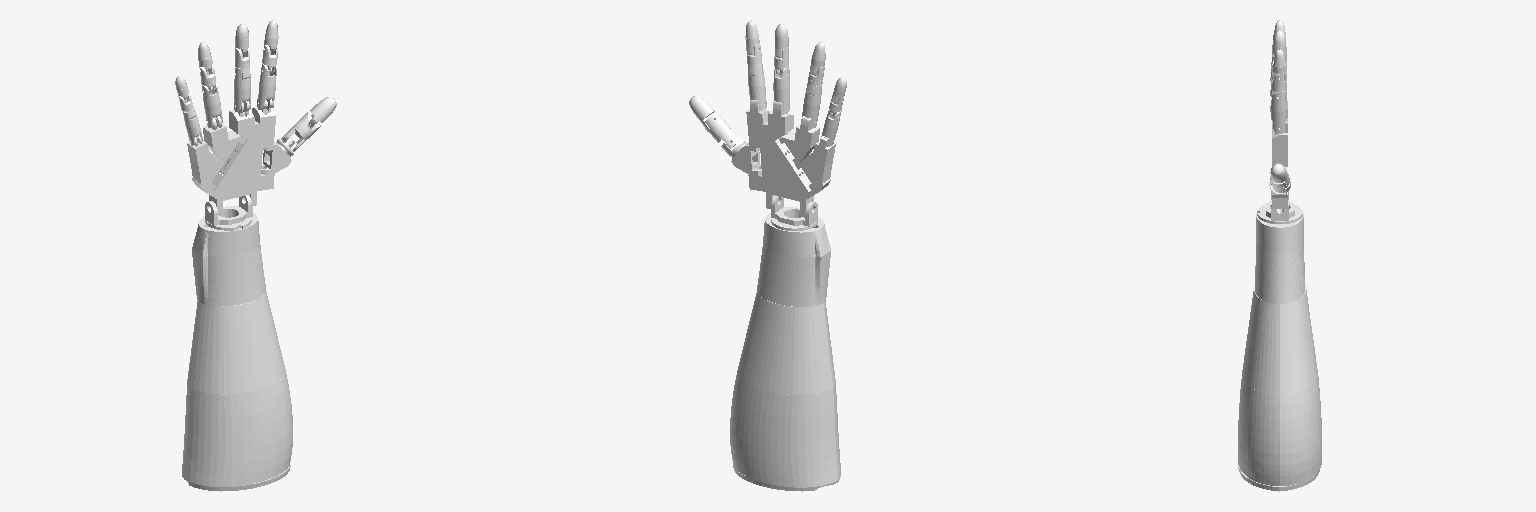
--- What the picture shows (computed from the rendered views, not written in the file) ---
3 views of the same robot in one strip: view 1: azimuth 30°, elevation 25°; view 2: azimuth 150°, elevation 25°; view 3: azimuth 270°, elevation 25° (orthographic).
Model hand_urdf with 21 links and 20 joints (19 revolute, 1 fixed), rooted at world, posed every joint at zero.
Links seen in each view (by area): view 1: base_link, link_2, link_1, link_4, link_5, link_3, link_7, link_13, link_8, link_6; view 2: base_link, link_2, link_1, link_4, link_5, link_3, link_8, link_6, link_7, link_13; view 3: base_link, link_2, link_1, link_7.
Boxes of the visible links, <box> form: base_link: <box>182,213,292,491</box>; link_2: <box>192,99,275,214</box>; link_1: <box>205,195,252,230</box>; link_4: <box>187,135,226,190</box>; link_5: <box>203,116,245,163</box>; link_3: <box>261,137,296,174</box>; link_7: <box>258,63,276,109</box>; link_13: <box>202,82,222,127</box>; link_8: <box>281,112,320,151</box>; link_6: <box>234,67,250,111</box>; base_link: <box>730,213,840,491</box>; link_2: <box>746,100,831,217</box>; link_1: <box>771,195,817,230</box>; link_4: <box>795,136,835,190</box>; link_5: <box>779,116,820,164</box>; link_3: <box>721,137,761,175</box>; link_8: <box>705,114,736,148</box>; link_6: <box>773,66,789,112</box>; link_7: <box>748,64,766,110</box>; link_13: <box>801,83,821,128</box>; base_link: <box>1238,204,1321,491</box>; link_2: <box>1272,105,1287,215</box>; link_1: <box>1257,190,1302,223</box>; link_7: <box>1270,91,1286,133</box>.
Bounding box of the posed robot: 0.1832 × 0.0865 × 0.4951 m (x, y, z).
20 mesh visuals loaded from 20 distinct referenced files (20 binary STL).

URDF robot description (hand_urdf):
<?xml version="1.0" encoding="utf-8" ?>
<!-- This URDF was automatically created by SolidWorks to URDF Exporter! Originally created by Stephen Brawner ([email redacted]) 
     Commit Version: 1.6.0-4-g7f85cfe  Build Version: 1.6.7995.38578
     For more information, please see http://wiki.ros.org/sw_urdf_exporter -->
<robot name="hand_urdf">
    <link name="world" />
    <joint name="base_joint" type="fixed">
        <parent link="world" />
        <child link="base_link" />
        <origin rpy="0 0 0" xyz="0.0 0.0 0.0" />
    </joint>
    <link name="base_link">
        <inertial>
            <origin xyz="-9.57E-05 0.00036971 0.081542" rpy="0 0 0" />
            <mass value="0.42135" />
            <inertia ixx="0.00056075" ixy="-1.247E-06" ixz="2.5154E-06" iyy="0.00080543" iyz="-7.8447E-08" izz="0.00081249" />
        </inertial>
        <visual>
            <origin xyz="0 0 0" rpy="0 0 0" />
            <geometry>
                <mesh filename="package://hand_urdf/meshes/base_link.STL" />
            </geometry>
            <material name="">
                <color rgba="1 1 1 1" />
            </material>
        </visual>
        <collision>
            <origin xyz="0 0 0" rpy="0 0 0" />
            <geometry>
                <mesh filename="package://hand_urdf/meshes/base_link.STL" />
            </geometry>
        </collision>
    </link>
    <link name="link_1">
        <inertial>
            <origin xyz="-0.00018823 -7.0778E-05 0.006205" rpy="0 0 0" />
            <mass value="0.01051" />
            <inertia ixx="1.3884E-06" ixy="-9.6777E-09" ixz="1.1461E-08" iyy="2.7578E-06" iyz="-7.3181E-09" izz="3.4267E-06" />
        </inertial>
        <visual>
            <origin xyz="0 0 0" rpy="0 0 0" />
            <geometry>
                <mesh filename="package://hand_urdf/meshes/link_1.STL" />
            </geometry>
            <material name="">
                <color rgba="1 1 1 1" />
            </material>
        </visual>
        <collision>
            <origin xyz="0 0 0" rpy="0 0 0" />
            <geometry>
                <mesh filename="package://hand_urdf/meshes/link_1.STL" />
            </geometry>
        </collision>
    </link>
    <joint name="joint_1" type="revolute">
        <origin xyz="-0.0092782 0.0004297 0.2804" rpy="0 0 3.1416" />
        <parent link="base_link" />
        <child link="link_1" />
        <axis xyz="0 0 1" />
        <limit lower="0" upper="3.14" effort="1.47" velocity="10" />
    </joint>
    <link name="link_2">
        <inertial>
            <origin xyz="0.047956 -0.00011481 0.012072" rpy="0 0 0" />
            <mass value="0.065188" />
            <inertia ixx="2.4387E-05" ixy="3.1859E-07" ixz="-1.5646E-05" iyy="7.9044E-05" iyz="6.6163E-08" izz="5.796E-05" />
        </inertial>
        <visual>
            <origin xyz="0 0 0" rpy="0 0 0" />
            <geometry>
                <mesh filename="package://hand_urdf/meshes/link_2.STL" />
            </geometry>
            <material name="">
                <color rgba="1 1 1 1" />
            </material>
        </visual>
        <collision>
            <origin xyz="0 0 0" rpy="0 0 0" />
            <geometry>
                <mesh filename="package://hand_urdf/meshes/link_2.STL" />
            </geometry>
        </collision>
    </link>
    <joint name="joint_2" type="revolute">
        <origin xyz="-0.0057655 -2.3696E-05 0.018503" rpy="0 -1.5708 0" />
        <parent link="link_1" />
        <child link="link_2" />
        <axis xyz="0 0 1" />
        <limit lower="-3.14" upper="3.14" effort="0.588" velocity="10" />
    </joint>
    <link name="link_3">
        <inertial>
            <origin xyz="-0.015159 -0.00030686 0.012579" rpy="0 0 0" />
            <mass value="0.010696" />
            <inertia ixx="1.0275E-06" ixy="-5.1813E-09" ixz="-9.0665E-08" iyy="1.1917E-06" iyz="7.2066E-09" izz="7.7781E-07" />
        </inertial>
        <visual>
            <origin xyz="0 0 0" rpy="0 0 0" />
            <geometry>
                <mesh filename="package://hand_urdf/meshes/link_3.STL" />
            </geometry>
            <material name="">
                <color rgba="1 1 1 1" />
            </material>
        </visual>
        <collision>
            <origin xyz="0 0 0" rpy="0 0 0" />
            <geometry>
                <mesh filename="package://hand_urdf/meshes/link_3.STL" />
            </geometry>
        </collision>
    </link>
    <joint name="joint_3" type="revolute">
        <origin xyz="0.031337 0 0.034751" rpy="0 1.4877 0" />
        <parent link="link_2" />
        <child link="link_3" />
        <axis xyz="0 0 -1" />
        <limit lower="0" upper="1.57" effort="0.588" velocity="10" />
    </joint>
    <link name="link_8">
        <inertial>
            <origin xyz="-0.015023 0.0090258 0.005" rpy="0 0 0" />
            <mass value="0.0058999" />
            <inertia ixx="3.5157E-07" ixy="1.7362E-08" ixz="-4.4956E-14" iyy="3.7039E-07" iyz="-5.2708E-13" izz="2.9572E-07" />
        </inertial>
        <visual>
            <origin xyz="0 0 0" rpy="0 0 0" />
            <geometry>
                <mesh filename="package://hand_urdf/meshes/link_8.STL" />
            </geometry>
            <material name="">
                <color rgba="1 1 1 1" />
            </material>
        </visual>
        <collision>
            <origin xyz="0 0 0" rpy="0 0 0" />
            <geometry>
                <mesh filename="package://hand_urdf/meshes/link_8.STL" />
            </geometry>
        </collision>
    </link>
    <joint name="joint_8" type="revolute">
        <origin xyz="-0.034598 -0.0015598 0.018449" rpy="0.63363 0.56445 0.32635" />
        <parent link="link_3" />
        <child link="link_8" />
        <axis xyz="0 0 -1" />
        <limit lower="0" upper="1.57" effort="0.588" velocity="10" />
    </joint>
    <link name="link_9">
        <inertial>
            <origin xyz="-0.012918 -0.0050672 -0.0032528" rpy="0 0 0" />
            <mass value="0.0043152" />
            <inertia ixx="1.9054E-07" ixy="-1.5389E-08" ixz="4.1698E-11" iyy="1.8634E-07" iyz="-5.2172E-11" izz="2.1466E-07" />
        </inertial>
        <visual>
            <origin xyz="0 0 0" rpy="0 0 0" />
            <geometry>
                <mesh filename="package://hand_urdf/meshes/link_9.STL" />
            </geometry>
            <material name="">
                <color rgba="1 1 1 1" />
            </material>
        </visual>
        <collision>
            <origin xyz="0 0 0" rpy="0 0 0" />
            <geometry>
                <mesh filename="package://hand_urdf/meshes/link_9.STL" />
            </geometry>
        </collision>
    </link>
    <joint name="joint_9" type="revolute">
        <origin xyz="-0.025274 0.012384 0.00175" rpy="-3.1416 0 0" />
        <parent link="link_8" />
        <child link="link_9" />
        <axis xyz="0 0 -1" />
        <limit lower="-1.57" upper="0" effort="0.588" velocity="10" />
    </joint>
    <link name="link_4">
        <inertial>
            <origin xyz="0.019365 0.0001012 -0.014335" rpy="0 0 0" />
            <mass value="0.017142" />
            <inertia ixx="1.9362E-06" ixy="-3.2751E-08" ixz="1.0482E-06" iyy="3.9678E-06" iyz="2.765E-08" izz="2.8681E-06" />
        </inertial>
        <visual>
            <origin xyz="0 0 0" rpy="0 0 0" />
            <geometry>
                <mesh filename="package://hand_urdf/meshes/link_4.STL" />
            </geometry>
            <material name="">
                <color rgba="1 1 1 1" />
            </material>
        </visual>
        <collision>
            <origin xyz="0 0 0" rpy="0 0 0" />
            <geometry>
                <mesh filename="package://hand_urdf/meshes/link_4.STL" />
            </geometry>
        </collision>
    </link>
    <joint name="joint_4" type="revolute">
        <origin xyz="0.030226 0 -0.028427" rpy="3.1416 0.88174 0" />
        <parent link="link_2" />
        <child link="link_4" />
        <axis xyz="0 0 -1" />
        <limit lower="0" upper="1.57" effort="0.588" velocity="10" />
    </joint>
    <link name="link_10">
        <inertial>
            <origin xyz="0.015019 -0.00071389 -0.00362" rpy="0 0 0" />
            <mass value="0.0027236" />
            <inertia ixx="8.9581E-08" ixy="2.492E-09" ixz="-4.5585E-13" iyy="1.3857E-07" iyz="2.4337E-13" izz="1.2053E-07" />
        </inertial>
        <visual>
            <origin xyz="0 0 0" rpy="0 0 0" />
            <geometry>
                <mesh filename="package://hand_urdf/meshes/link_10.STL" />
            </geometry>
            <material name="">
                <color rgba="1 1 1 1" />
            </material>
        </visual>
        <collision>
            <origin xyz="0 0 0" rpy="0 0 0" />
            <geometry>
                <mesh filename="package://hand_urdf/meshes/link_10.STL" />
            </geometry>
        </collision>
    </link>
    <joint name="joint_10" type="revolute">
        <origin xyz="0.047022 -0.0003 -0.027283" rpy="0 0.62762 0" />
        <parent link="link_4" />
        <child link="link_10" />
        <axis xyz="0 0 -1" />
        <limit lower="0" upper="1.57" effort="0.588" velocity="10" />
    </joint>
    <link name="link_11">
        <inertial>
            <origin xyz="0.0090515 -0.00077922 -0.0035425" rpy="0 0 0" />
            <mass value="0.0017535" />
            <inertia ixx="3.7917E-08" ixy="-4.194E-09" ixz="6.6578E-13" iyy="4.5701E-08" iyz="-2.5517E-13" izz="4.4716E-08" />
        </inertial>
        <visual>
            <origin xyz="0 0 0" rpy="0 0 0" />
            <geometry>
                <mesh filename="package://hand_urdf/meshes/link_11.STL" />
            </geometry>
            <material name="">
                <color rgba="1 1 1 1" />
            </material>
        </visual>
        <collision>
            <origin xyz="0 0 0" rpy="0 0 0" />
            <geometry>
                <mesh filename="package://hand_urdf/meshes/link_11.STL" />
            </geometry>
        </collision>
    </link>
    <joint name="joint_11" type="revolute">
        <origin xyz="0.030505 0.0010814 -7.7625E-05" rpy="0 0 0" />
        <parent link="link_10" />
        <child link="link_11" />
        <axis xyz="0 0 -1" />
        <limit lower="0" upper="1.57" effort="0.588" velocity="10" />
    </joint>
    <link name="link_12">
        <inertial>
            <origin xyz="0.009388 2.9411E-05 -0.0027088" rpy="0 0 0" />
            <mass value="0.0014242" />
            <inertia ixx="2.5902E-08" ixy="2.0689E-09" ixz="2.0586E-11" iyy="3.2645E-08" iyz="5.227E-12" izz="3.4057E-08" />
        </inertial>
        <visual>
            <origin xyz="0 0 0" rpy="0 0 0" />
            <geometry>
                <mesh filename="package://hand_urdf/meshes/link_12.STL" />
            </geometry>
            <material name="">
                <color rgba="1 1 1 1" />
            </material>
        </visual>
        <collision>
            <origin xyz="0 0 0" rpy="0 0 0" />
            <geometry>
                <mesh filename="package://hand_urdf/meshes/link_12.STL" />
            </geometry>
        </collision>
    </link>
    <joint name="joint_12" type="revolute">
        <origin xyz="0.019171 0.00041675 -0.0008335" rpy="0 0 0" />
        <parent link="link_11" />
        <child link="link_12" />
        <axis xyz="0 0 -1" />
        <limit lower="0" upper="1.57" effort="0.588" velocity="10" />
    </joint>
    <link name="link_5">
        <inertial>
            <origin xyz="0.018472 -9.7958E-05 0.011351" rpy="0 0 0" />
            <mass value="0.014141" />
            <inertia ixx="1.2964E-06" ixy="2.5174E-08" ixz="-5.0404E-07" iyy="2.733E-06" iyz="1.1489E-08" izz="2.126E-06" />
        </inertial>
        <visual>
            <origin xyz="0 0 0" rpy="0 0 0" />
            <geometry>
                <mesh filename="package://hand_urdf/meshes/link_5.STL" />
            </geometry>
            <material name="">
                <color rgba="1 1 1 1" />
            </material>
        </visual>
        <collision>
            <origin xyz="0 0 0" rpy="0 0 0" />
            <geometry>
                <mesh filename="package://hand_urdf/meshes/link_5.STL" />
            </geometry>
        </collision>
    </link>
    <joint name="joint_5" type="revolute">
        <origin xyz="0.053867 0 -0.0089519" rpy="0 0.88174 0" />
        <parent link="link_2" />
        <child link="link_5" />
        <axis xyz="0 0 -1" />
        <limit lower="-1.57" upper="0" effort="0.588" velocity="10" />
    </joint>
    <link name="link_13">
        <inertial>
            <origin xyz="0.018066 -0.0007713 0.00445" rpy="0 0 0" />
            <mass value="0.0047138" />
            <inertia ixx="2.232E-07" ixy="1.8864E-09" ixz="7.1413E-13" iyy="3.4575E-07" iyz="2.2812E-13" izz="3.0084E-07" />
        </inertial>
        <visual>
            <origin xyz="0 0 0" rpy="0 0 0" />
            <geometry>
                <mesh filename="package://hand_urdf/meshes/link_13.STL" />
            </geometry>
            <material name="">
                <color rgba="1 1 1 1" />
            </material>
        </visual>
        <collision>
            <origin xyz="0 0 0" rpy="0 0 0" />
            <geometry>
                <mesh filename="package://hand_urdf/meshes/link_13.STL" />
            </geometry>
        </collision>
    </link>
    <joint name="joint_13" type="revolute">
        <origin xyz="0.035799 0.0003 0.028967" rpy="-3.1416 -0.72952 0" />
        <parent link="link_5" />
        <child link="link_13" />
        <axis xyz="0 0 -1" />
        <limit lower="0" upper="1.57" effort="0.588" velocity="10" />
    </joint>
    <link name="link_14">
        <inertial>
            <origin xyz="0.01086 -0.0011104 -0.0042502" rpy="0 0 0" />
            <mass value="0.0030282" />
            <inertia ixx="9.4254E-08" ixy="-6.5171E-09" ixz="2.924E-12" iyy="1.1359E-07" iyz="1.9937E-12" izz="1.1117E-07" />
        </inertial>
        <visual>
            <origin xyz="0 0 0" rpy="0 0 0" />
            <geometry>
                <mesh filename="package://hand_urdf/meshes/link_14.STL" />
            </geometry>
            <material name="">
                <color rgba="1 1 1 1" />
            </material>
        </visual>
        <collision>
            <origin xyz="0 0 0" rpy="0 0 0" />
            <geometry>
                <mesh filename="package://hand_urdf/meshes/link_14.STL" />
            </geometry>
        </collision>
    </link>
    <joint name="joint_14" type="revolute">
        <origin xyz="0.03575 -0.0014005 0.0002" rpy="-3.1416 0 0" />
        <parent link="link_13" />
        <child link="link_14" />
        <axis xyz="0 0 -1" />
        <limit lower="-1.57" upper="0" effort="0.588" velocity="10" />
    </joint>
    <link name="link_15">
        <inertial>
            <origin xyz="0.011186 2.5987E-05 0.0032473" rpy="0 0 0" />
            <mass value="0.002406" />
            <inertia ixx="5.8143E-08" ixy="5.7172E-09" ixz="9.9215E-12" iyy="7.8049E-08" iyz="-1.9612E-11" izz="8.2228E-08" />
        </inertial>
        <visual>
            <origin xyz="0 0 0" rpy="0 0 0" />
            <geometry>
                <mesh filename="package://hand_urdf/meshes/link_15.STL" />
            </geometry>
            <material name="">
                <color rgba="1 1 1 1" />
            </material>
        </visual>
        <collision>
            <origin xyz="0 0 0" rpy="0 0 0" />
            <geometry>
                <mesh filename="package://hand_urdf/meshes/link_15.STL" />
            </geometry>
        </collision>
    </link>
    <joint name="joint_15" type="revolute">
        <origin xyz="0.023 -0.0015 -0.001" rpy="3.1416 0 0" />
        <parent link="link_14" />
        <child link="link_15" />
        <axis xyz="0 0 -1" />
        <limit lower="0" upper="1.57" effort="0.588" velocity="10" />
    </joint>
    <link name="link_6">
        <inertial>
            <origin xyz="0.018066 -0.00083955 0.00475" rpy="0 0 0" />
            <mass value="0.0047138" />
            <inertia ixx="2.232E-07" ixy="5.5705E-09" ixz="-1.1536E-12" iyy="3.4575E-07" iyz="3.9927E-13" izz="3.0084E-07" />
        </inertial>
        <visual>
            <origin xyz="0 0 0" rpy="0 0 0" />
            <geometry>
                <mesh filename="package://hand_urdf/meshes/link_6.STL" />
            </geometry>
            <material name="">
                <color rgba="1 1 1 1" />
            </material>
        </visual>
        <collision>
            <origin xyz="0 0 0" rpy="0 0 0" />
            <geometry>
                <mesh filename="package://hand_urdf/meshes/link_6.STL" />
            </geometry>
        </collision>
    </link>
    <joint name="joint_6" type="revolute">
        <origin xyz="0.10744 0.0005 0.01459" rpy="-3.1416 0 0" />
        <parent link="link_2" />
        <child link="link_6" />
        <axis xyz="0 0 -1" />
        <limit lower="0" upper="1.57" effort="0.588" velocity="10" />
    </joint>
    <link name="link_16">
        <inertial>
            <origin xyz="0.01086 -0.00093482 0.00425" rpy="0 0 0" />
            <mass value="0.0030282" />
            <inertia ixx="9.4254E-08" ixy="-1.0426E-08" ixz="-8.5678E-13" iyy="1.1359E-07" iyz="1.494E-12" izz="1.1117E-07" />
        </inertial>
        <visual>
            <origin xyz="0 0 0" rpy="0 0 0" />
            <geometry>
                <mesh filename="package://hand_urdf/meshes/link_16.STL" />
            </geometry>
            <material name="">
                <color rgba="1 1 1 1" />
            </material>
        </visual>
        <collision>
            <origin xyz="0 0 0" rpy="0 0 0" />
            <geometry>
                <mesh filename="package://hand_urdf/meshes/link_16.STL" />
            </geometry>
        </collision>
    </link>
    <joint name="joint_16" type="revolute">
        <origin xyz="0.03575 -0.00040054 0.0005" rpy="0 0 0" />
        <parent link="link_6" />
        <child link="link_16" />
        <axis xyz="0 0 -1" />
        <limit lower="0" upper="1.57" effort="0.588" velocity="10" />
    </joint>
    <link name="link_17">
        <inertial>
            <origin xyz="0.011263 3.5299E-05 0.0032501" rpy="0 0 0" />
            <mass value="0.0024596" />
            <inertia ixx="6.4387E-08" ixy="5.1428E-09" ixz="4.9409E-11" iyy="8.1148E-08" iyz="1.244E-11" izz="8.466E-08" />
        </inertial>
        <visual>
            <origin xyz="0 0 0" rpy="0 0 0" />
            <geometry>
                <mesh filename="package://hand_urdf/meshes/link_17.STL" />
            </geometry>
            <material name="">
                <color rgba="1 1 1 1" />
            </material>
        </visual>
        <collision>
            <origin xyz="0 0 0" rpy="0 0 0" />
            <geometry>
                <mesh filename="package://hand_urdf/meshes/link_17.STL" />
            </geometry>
        </collision>
    </link>
    <joint name="joint_17" type="revolute">
        <origin xyz="0.023 0.0005 0.001" rpy="0 0 0" />
        <parent link="link_16" />
        <child link="link_17" />
        <axis xyz="0 0 -1" />
        <limit lower="0" upper="1.57" effort="0.588" velocity="10" />
    </joint>
    <link name="link_7">
        <inertial>
            <origin xyz="-0.018066 0.0007713 0.00445" rpy="0 0 0" />
            <mass value="0.0047138" />
            <inertia ixx="2.232E-07" ixy="1.8864E-09" ixz="-6.4083E-13" iyy="3.4575E-07" iyz="-6.4918E-13" izz="3.0084E-07" />
        </inertial>
        <visual>
            <origin xyz="0 0 0" rpy="0 0 0" />
            <geometry>
                <mesh filename="package://hand_urdf/meshes/link_7.STL" />
            </geometry>
            <material name="">
                <color rgba="1 1 1 1" />
            </material>
        </visual>
        <collision>
            <origin xyz="0 0 0" rpy="0 0 0" />
            <geometry>
                <mesh filename="package://hand_urdf/meshes/link_7.STL" />
            </geometry>
        </collision>
    </link>
    <joint name="joint_7" type="revolute">
        <origin xyz="0.10262 0.0005 0.041386" rpy="-3.1416 0.096866 -3.1416" />
        <parent link="link_2" />
        <child link="link_7" />
        <axis xyz="0 0 -1" />
        <limit lower="0" upper="1.57" effort="0.588" velocity="10" />
    </joint>
    <link name="link_18">
        <inertial>
            <origin xyz="-0.01086 0.0011104 -0.0042499" rpy="0 0 0" />
            <mass value="0.0030282" />
            <inertia ixx="9.4254E-08" ixy="-6.5173E-09" ixz="-1.6641E-13" iyy="1.1359E-07" iyz="-1.1544E-12" izz="1.1117E-07" />
        </inertial>
        <visual>
            <origin xyz="0 0 0" rpy="0 0 0" />
            <geometry>
                <mesh filename="package://hand_urdf/meshes/link_18.STL" />
            </geometry>
            <material name="">
                <color rgba="1 1 1 1" />
            </material>
        </visual>
        <collision>
            <origin xyz="0 0 0" rpy="0 0 0" />
            <geometry>
                <mesh filename="package://hand_urdf/meshes/link_18.STL" />
            </geometry>
        </collision>
    </link>
    <joint name="joint_18" type="revolute">
        <origin xyz="-0.03575 0.0014005 0.0002" rpy="-3.1416 0 0" />
        <parent link="link_7" />
        <child link="link_18" />
        <axis xyz="0 0 -1" />
        <limit lower="-1.57" upper="0" effort="0.588" velocity="10" />
    </joint>
    <link name="link_19">
        <inertial>
            <origin xyz="-0.011186 -2.5989E-05 0.0032473" rpy="0 0 0" />
            <mass value="0.002406" />
            <inertia ixx="5.8142E-08" ixy="5.7172E-09" ixz="-1.0045E-11" iyy="7.8049E-08" iyz="1.9621E-11" izz="8.2227E-08" />
        </inertial>
        <visual>
            <origin xyz="0 0 0" rpy="0 0 0" />
            <geometry>
                <mesh filename="package://hand_urdf/meshes/link_19.STL" />
            </geometry>
            <material name="">
                <color rgba="1 1 1 1" />
            </material>
        </visual>
        <collision>
            <origin xyz="0 0 0" rpy="0 0 0" />
            <geometry>
                <mesh filename="package://hand_urdf/meshes/link_19.STL" />
            </geometry>
        </collision>
    </link>
    <joint name="joint_19" type="revolute">
        <origin xyz="-0.023 0.0015 -0.001" rpy="3.1416 0 0" />
        <parent link="link_18" />
        <child link="link_19" />
        <axis xyz="0 0 -1" />
        <limit lower="0" upper="1.57" effort="0.588" velocity="10" />
    </joint>
    <transmission name="link_1_trans">
        <type>transmission_interface/SimpleTransmission</type>
        <joint name="joint_1">
            <hardwareInterface>hardware_interface/PositionJointInterface</hardwareInterface>
        </joint>
        <actuator name="link_1_motor">
            <hardwareInterface>hardware_interface/PositionJointInterface</hardwareInterface>
            <mechanicalReduction>1</mechanicalReduction>
        </actuator>
    </transmission>
    <transmission name="link_2_trans">
        <type>transmission_interface/SimpleTransmission</type>
        <joint name="joint_2">
            <hardwareInterface>hardware_interface/PositionJointInterface</hardwareInterface>
        </joint>
        <actuator name="link_2_motor">
            <hardwareInterface>hardware_interface/PositionJointInterface</hardwareInterface>
            <mechanicalReduction>1</mechanicalReduction>
        </actuator>
    </transmission>
    <transmission name="link_3_trans">
        <type>transmission_interface/SimpleTransmission</type>
        <joint name="joint_3">
            <hardwareInterface>hardware_interface/PositionJointInterface</hardwareInterface>
        </joint>
        <actuator name="link_3_motor">
            <hardwareInterface>hardware_interface/PositionJointInterface</hardwareInterface>
            <mechanicalReduction>1</mechanicalReduction>
        </actuator>
    </transmission>
    <transmission name="link_4_trans">
        <type>transmission_interface/SimpleTransmission</type>
        <joint name="joint_4">
            <hardwareInterface>hardware_interface/PositionJointInterface</hardwareInterface>
        </joint>
        <actuator name="link_4_motor">
            <hardwareInterface>hardware_interface/PositionJointInterface</hardwareInterface>
            <mechanicalReduction>1</mechanicalReduction>
        </actuator>
    </transmission>
    <transmission name="link_5_trans">
        <type>transmission_interface/SimpleTransmission</type>
        <joint name="joint_5">
            <hardwareInterface>hardware_interface/PositionJointInterface</hardwareInterface>
        </joint>
        <actuator name="link_5_motor">
            <hardwareInterface>hardware_interface/PositionJointInterface</hardwareInterface>
            <mechanicalReduction>1</mechanicalReduction>
        </actuator>
    </transmission>
    <transmission name="link_6_trans">
        <type>transmission_interface/SimpleTransmission</type>
        <joint name="joint_6">
            <hardwareInterface>hardware_interface/PositionJointInterface</hardwareInterface>
        </joint>
        <actuator name="link_6_motor">
            <hardwareInterface>hardware_interface/PositionJointInterface</hardwareInterface>
            <mechanicalReduction>1</mechanicalReduction>
        </actuator>
    </transmission>
    <transmission name="link_7_trans">
        <type>transmission_interface/SimpleTransmission</type>
        <joint name="joint_7">
            <hardwareInterface>hardware_interface/PositionJointInterface</hardwareInterface>
        </joint>
        <actuator name="link_7_motor">
            <hardwareInterface>hardware_interface/PositionJointInterface</hardwareInterface>
            <mechanicalReduction>1</mechanicalReduction>
        </actuator>
    </transmission>
    <transmission name="link_8_trans">
        <type>transmission_interface/SimpleTransmission</type>
        <joint name="joint_8">
            <hardwareInterface>hardware_interface/PositionJointInterface</hardwareInterface>
        </joint>
        <actuator name="link_8_motor">
            <hardwareInterface>hardware_interface/PositionJointInterface</hardwareInterface>
            <mechanicalReduction>1</mechanicalReduction>
        </actuator>
    </transmission>
    <transmission name="link_9_trans">
        <type>transmission_interface/SimpleTransmission</type>
        <joint name="joint_9">
            <hardwareInterface>hardware_interface/PositionJointInterface</hardwareInterface>
        </joint>
        <actuator name="link_9_motor">
            <hardwareInterface>hardware_interface/PositionJointInterface</hardwareInterface>
            <mechanicalReduction>1</mechanicalReduction>
        </actuator>
    </transmission>
    <transmission name="link_10_trans">
        <type>transmission_interface/SimpleTransmission</type>
        <joint name="joint_10">
            <hardwareInterface>hardware_interface/PositionJointInterface</hardwareInterface>
        </joint>
        <actuator name="link_10_motor">
            <hardwareInterface>hardware_interface/PositionJointInterface</hardwareInterface>
            <mechanicalReduction>1</mechanicalReduction>
        </actuator>
    </transmission>
    <transmission name="link_11_trans">
        <type>transmission_interface/SimpleTransmission</type>
        <joint name="joint_11">
            <hardwareInterface>hardware_interface/PositionJointInterface</hardwareInterface>
        </joint>
        <actuator name="link_11_motor">
            <hardwareInterface>hardware_interface/PositionJointInterface</hardwareInterface>
            <mechanicalReduction>1</mechanicalReduction>
        </actuator>
    </transmission>
    <transmission name="link_12_trans">
        <type>transmission_interface/SimpleTransmission</type>
        <joint name="joint_12">
            <hardwareInterface>hardware_interface/PositionJointInterface</hardwareInterface>
        </joint>
        <actuator name="link_12_motor">
            <hardwareInterface>hardware_interface/PositionJointInterface</hardwareInterface>
            <mechanicalReduction>1</mechanicalReduction>
        </actuator>
    </transmission>
    <transmission name="link_13_trans">
        <type>transmission_interface/SimpleTransmission</type>
        <joint name="joint_13">
            <hardwareInterface>hardware_interface/PositionJointInterface</hardwareInterface>
        </joint>
        <actuator name="link_13_motor">
            <hardwareInterface>hardware_interface/PositionJointInterface</hardwareInterface>
            <mechanicalReduction>1</mechanicalReduction>
        </actuator>
    </transmission>
    <transmission name="link_14_trans">
        <type>transmission_interface/SimpleTransmission</type>
        <joint name="joint_14">
            <hardwareInterface>hardware_interface/PositionJointInterface</hardwareInterface>
        </joint>
        <actuator name="link_14_motor">
            <hardwareInterface>hardware_interface/PositionJointInterface</hardwareInterface>
            <mechanicalReduction>1</mechanicalReduction>
        </actuator>
    </transmission>
    <transmission name="link_15_trans">
        <type>transmission_interface/SimpleTransmission</type>
        <joint name="joint_15">
            <hardwareInterface>hardware_interface/PositionJointInterface</hardwareInterface>
        </joint>
        <actuator name="link_15_motor">
            <hardwareInterface>hardware_interface/PositionJointInterface</hardwareInterface>
            <mechanicalReduction>1</mechanicalReduction>
        </actuator>
    </transmission>
    <transmission name="link_16_trans">
        <type>transmission_interface/SimpleTransmission</type>
        <joint name="joint_16">
            <hardwareInterface>hardware_interface/PositionJointInterface</hardwareInterface>
        </joint>
        <actuator name="link_16_motor">
            <hardwareInterface>hardware_interface/PositionJointInterface</hardwareInterface>
            <mechanicalReduction>1</mechanicalReduction>
        </actuator>
    </transmission>
    <transmission name="link_17_trans">
        <type>transmission_interface/SimpleTransmission</type>
        <joint name="joint_17">
            <hardwareInterface>hardware_interface/PositionJointInterface</hardwareInterface>
        </joint>
        <actuator name="link_17_motor">
            <hardwareInterface>hardware_interface/PositionJointInterface</hardwareInterface>
            <mechanicalReduction>1</mechanicalReduction>
        </actuator>
    </transmission>
    <transmission name="link_18_trans">
        <type>transmission_interface/SimpleTransmission</type>
        <joint name="joint_18">
            <hardwareInterface>hardware_interface/PositionJointInterface</hardwareInterface>
        </joint>
        <actuator name="link_18_motor">
            <hardwareInterface>hardware_interface/PositionJointInterface</hardwareInterface>
            <mechanicalReduction>1</mechanicalReduction>
        </actuator>
    </transmission>
    <transmission name="link_19_trans">
        <type>transmission_interface/SimpleTransmission</type>
        <joint name="joint_19">
            <hardwareInterface>hardware_interface/PositionJointInterface</hardwareInterface>
        </joint>
        <actuator name="link_19_motor">
            <hardwareInterface>hardware_interface/PositionJointInterface</hardwareInterface>
            <mechanicalReduction>1</mechanicalReduction>
        </actuator>
    </transmission>
    
    <gazebo>
        <plugin name="control" filename="libgazebo_ros_control.so">
            <robotNamespace>/</robotNamespace>
        </plugin>
    </gazebo>
    
    <gazebo reference="link_1">
        <selfCollide>true</selfCollide>
    </gazebo>
    <gazebo reference="link_2">
        <selfCollide>true</selfCollide>
    </gazebo>
    <gazebo reference="link_3">
        <selfCollide>true</selfCollide>
    </gazebo>
    <gazebo reference="link_4">
        <selfCollide>true</selfCollide>
    </gazebo>
    <gazebo reference="link_5">
        <selfCollide>true</selfCollide>
    </gazebo>
    <gazebo reference="link_6">
        <selfCollide>true</selfCollide>
    </gazebo>
    <gazebo reference="link_7">
        <selfCollide>true</selfCollide>
    </gazebo>
    <gazebo reference="link_8">
        <selfCollide>true</selfCollide>
    </gazebo>
    <gazebo reference="link_9">
        <selfCollide>true</selfCollide>
    </gazebo>
    <gazebo reference="link_10">
        <selfCollide>true</selfCollide>
    </gazebo>
    <gazebo reference="link_11">
        <selfCollide>true</selfCollide>
    </gazebo>
    <gazebo reference="link_12">
        <selfCollide>true</selfCollide>
    </gazebo>
    <gazebo reference="link_13">
        <selfCollide>true</selfCollide>
    </gazebo>
    <gazebo reference="link_14">
        <selfCollide>true</selfCollide>
    </gazebo>
    <gazebo reference="link_15">
        <selfCollide>true</selfCollide>
    </gazebo>
    <gazebo reference="link_16">
        <selfCollide>true</selfCollide>
    </gazebo>
    <gazebo reference="link_17">
        <selfCollide>true</selfCollide>
    </gazebo>
    <gazebo reference="link_18">
        <selfCollide>true</selfCollide>
    </gazebo>
    <gazebo reference="link_19">
        <selfCollide>true</selfCollide>
    </gazebo>
</robot>
